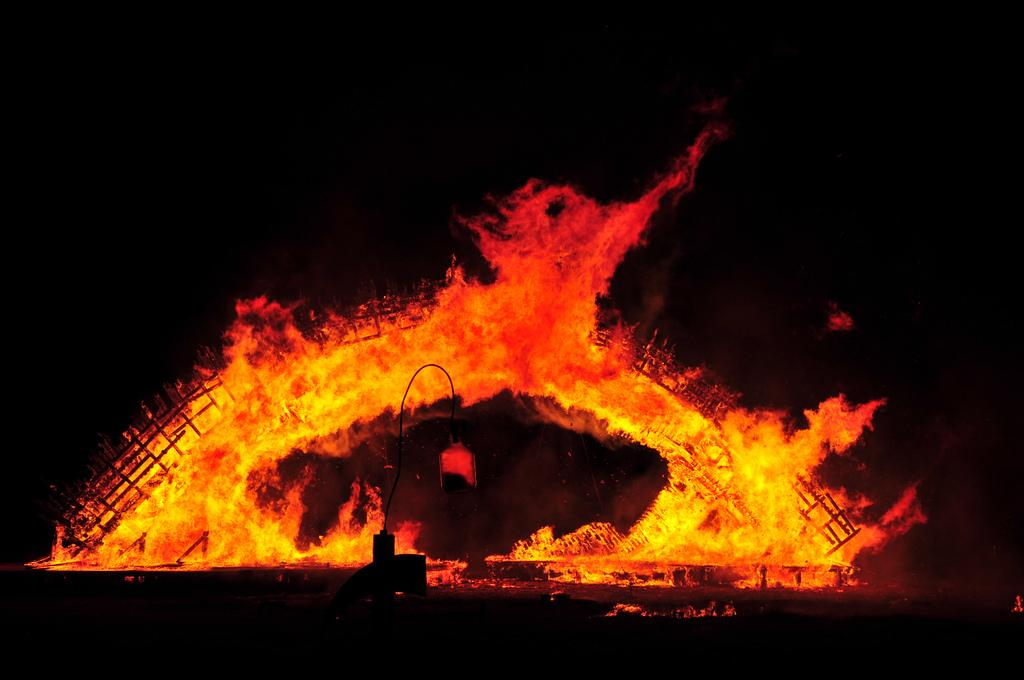fire: (88, 433, 308, 560), (460, 212, 600, 392), (238, 300, 437, 418), (685, 418, 838, 547)
